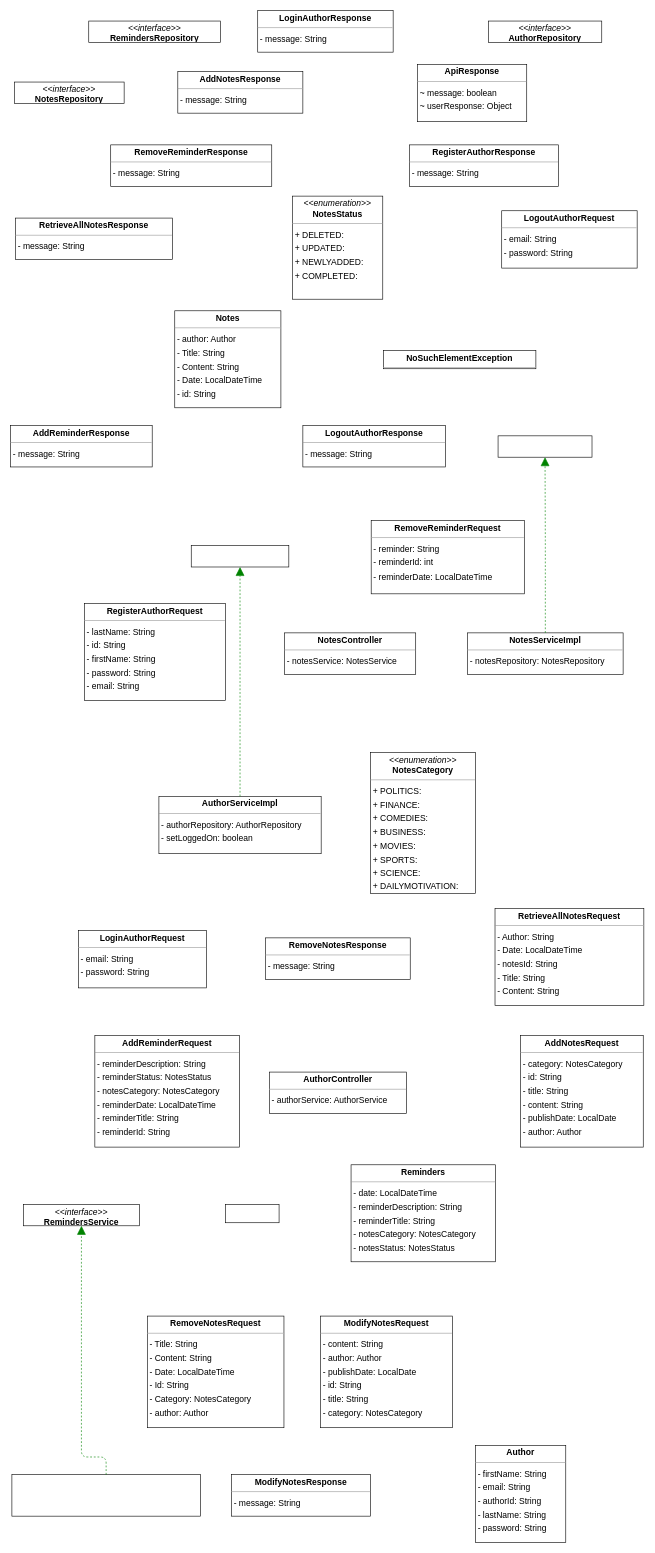
The diagram is 655 pixels wide and 1553 high, and some of its shapes have lost their labels. The shapes that lost their labels are listed below. From the top down, each one's centre as x and y in pixels, then its label:
At pixel 544 446: "<<interface>> NotesService".
At pixel 240 556: "<<interface>> AuthorService".
At pixel 252 1213: "Main".
At pixel 105 1495: "RemindersServiceImpl ~ remindersRepository: RemindersRepository".
